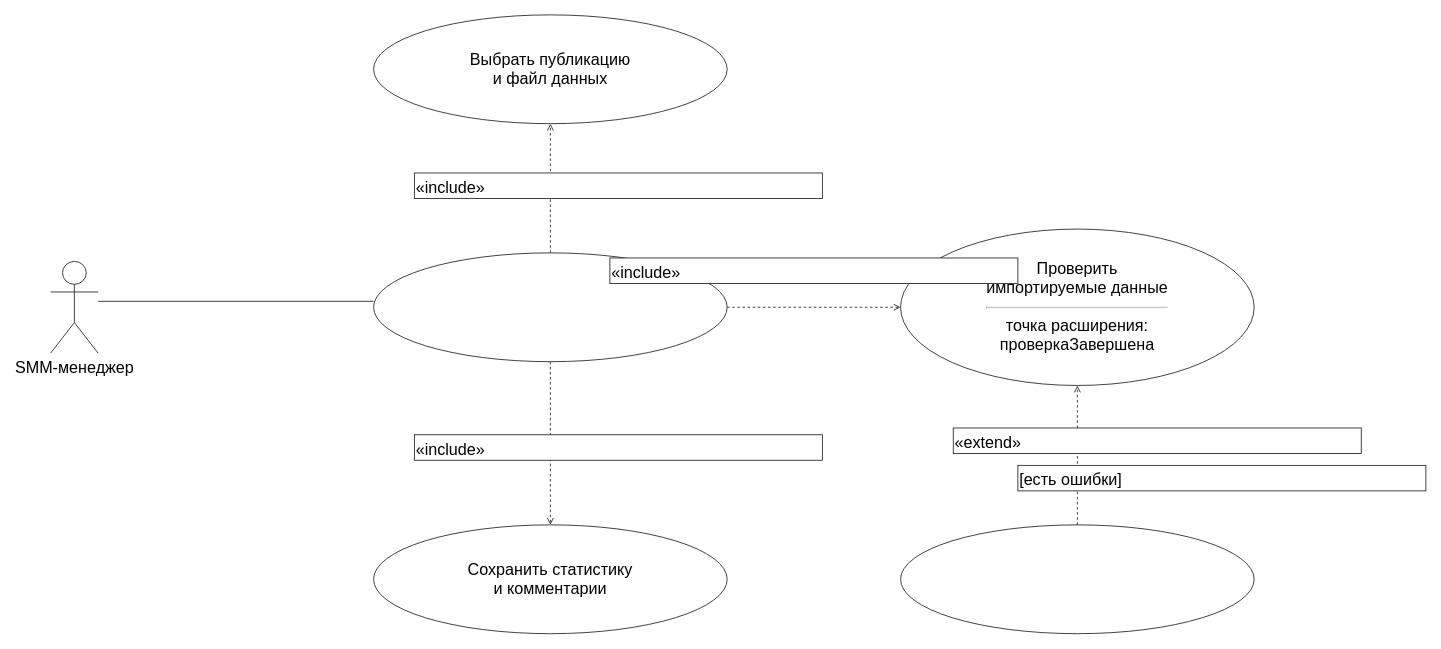
Image size: 1441x649. Some labels were removed from this diagram. The centre of each missing label's shape, as x and y in pixels:
"Импортировать статистику и комментарии" belongs at (x=550, y=307).
"Показать ошибки импорта" belongs at (x=1077, y=579).
